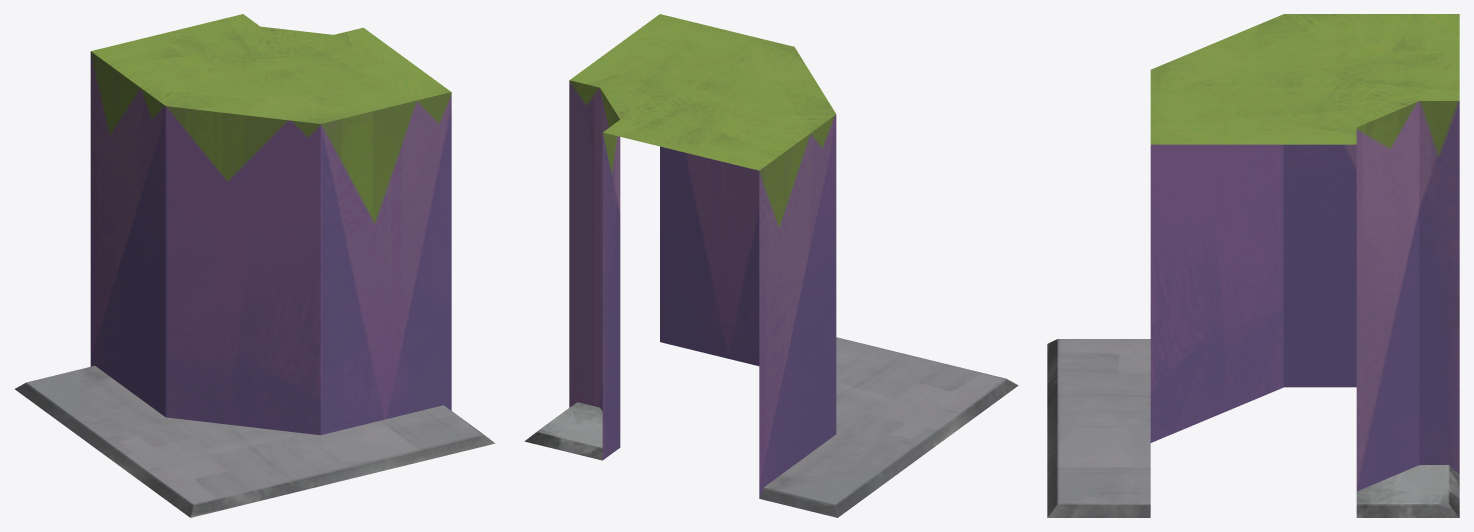
The model's file is wall_corner.fbx.
3 views of the same model, side by side, from view 1: azimuth 30°, elevation 25°; view 2: azimuth 150°, elevation 25°; view 3: azimuth 270°, elevation 25° (orthographic). The views are drawn at different scales.
Parts seen in each view (by area): view 1: wall_corner; view 2: wall_corner; view 3: wall_corner.
Part boxes in pixels (x1=…): wall_corner: x1=15, y1=14, x2=495, y2=517; wall_corner: x1=524, y1=14, x2=1018, y2=517; wall_corner: x1=1047, y1=14, x2=1459, y2=517.
Size of the model in its own units: 0.02 by 0.02 by 0.02.
